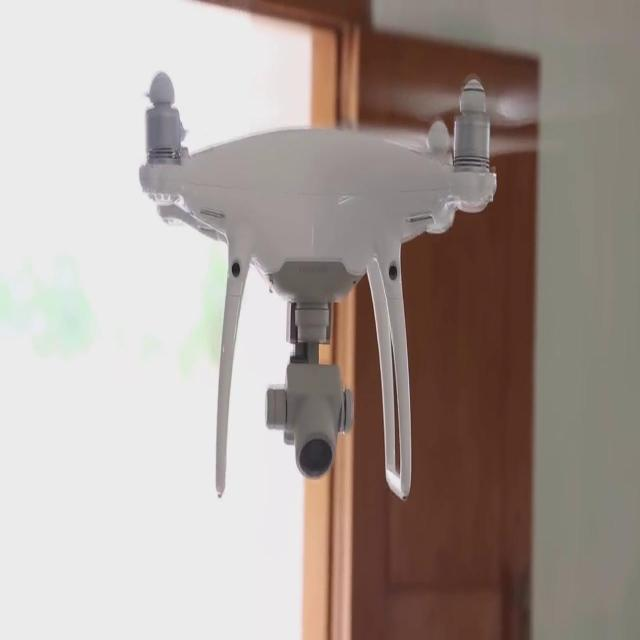drone: (0, 40, 640, 552)
